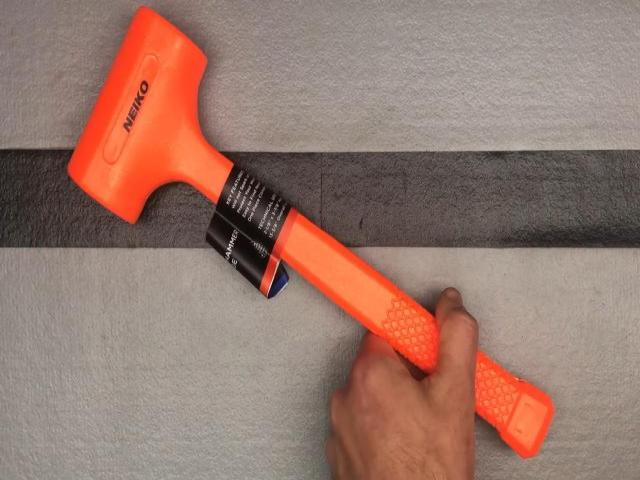hammer: (66, 6, 559, 456)
